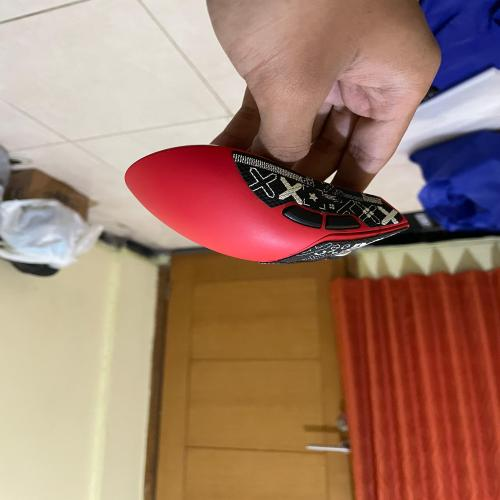Mouse: (103, 138, 416, 276)
